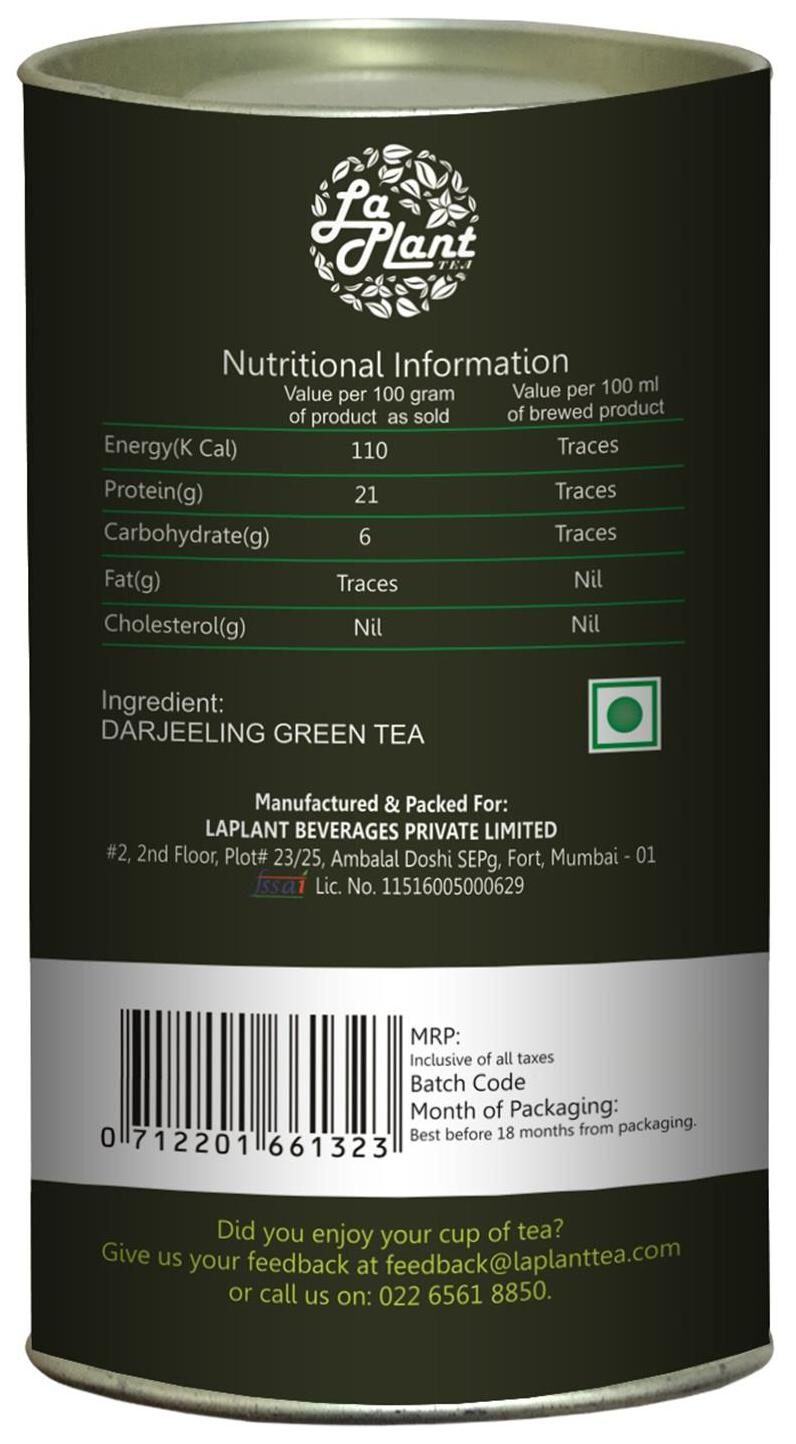fssai: (251, 868, 309, 897)
